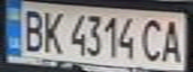1: (100, 12, 121, 59)
3: (84, 11, 103, 57)
4: (118, 14, 142, 61), (66, 10, 87, 56)
A: (160, 16, 187, 64)
B: (18, 6, 48, 53)
C: (139, 16, 169, 63)
K: (39, 7, 66, 54)
